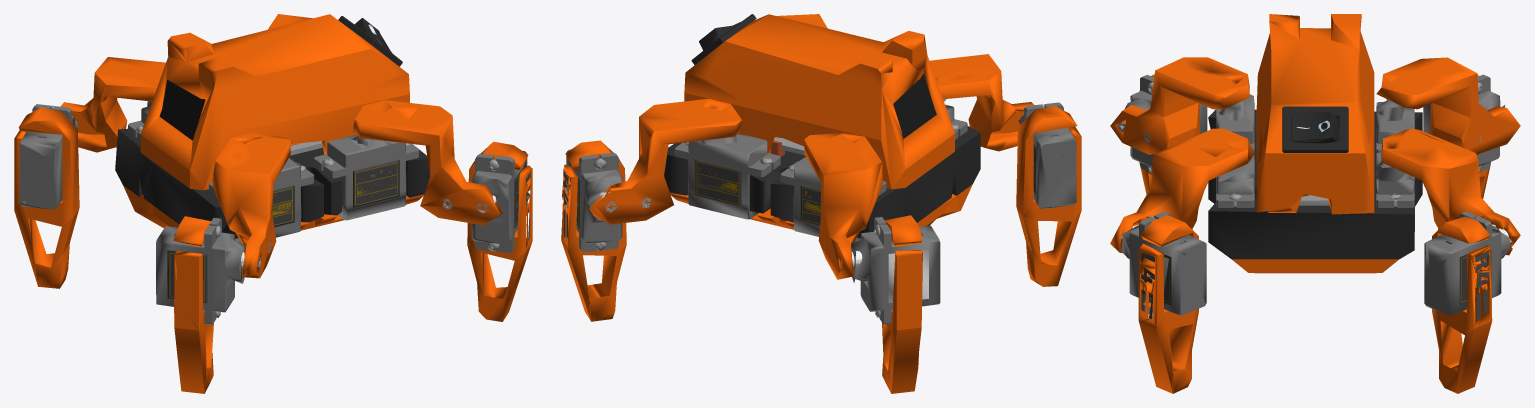
File: model-lite.lod1.glb
3 renders of one model, left to right at view 1: azimuth 30°, elevation 25°; view 2: azimuth 150°, elevation 25°; view 3: azimuth 270°, elevation 25°, orthographic.
Visible parts, largest first — view 1: femurjoint, Body1, Internal-Frame, Body2, Body1:12, Body1:30, Body1:24; view 2: femurjoint, Body1, Internal-Frame, Body2, Body1:12, Body1:30, Body1:24, Body13; view 3: femurjoint, Body1, Internal-Frame, Body1:24, Body2, foot, Body1:30.
Part boxes in pixels (left/top/right/bottom): femurjoint: left=14, top=14, right=532, bottom=393; Body1: left=19, top=101, right=527, bottom=324; Internal-Frame: left=115, top=128, right=430, bottom=238; Body2: left=167, top=159, right=524, bottom=303; Body1:12: left=159, top=80, right=205, bottom=140; Body1:30: left=51, top=105, right=499, bottom=317; Body1:24: left=338, top=16, right=402, bottom=66; femurjoint: left=561, top=14, right=1081, bottom=393; Body1: left=566, top=99, right=1076, bottom=324; Internal-Frame: left=664, top=126, right=980, bottom=238; Body2: left=569, top=144, right=1035, bottom=228; Body1:12: left=893, top=74, right=936, bottom=138; Body1:30: left=594, top=104, right=1044, bottom=317; Body1:24: left=691, top=14, right=756, bottom=64; Body13: left=599, top=192, right=928, bottom=303; femurjoint: left=1110, top=14, right=1520, bottom=393; Body1: left=1121, top=74, right=1510, bottom=315; Internal-Frame: left=1208, top=109, right=1422, bottom=259; Body1:24: left=1282, top=106, right=1348, bottom=152; Body2: left=1142, top=122, right=1488, bottom=305; foot: left=1141, top=251, right=1489, bottom=319; Body1:30: left=1118, top=82, right=1510, bottom=231.
Size of the model in its own units: 13.47 by 9.2 by 13.03.
